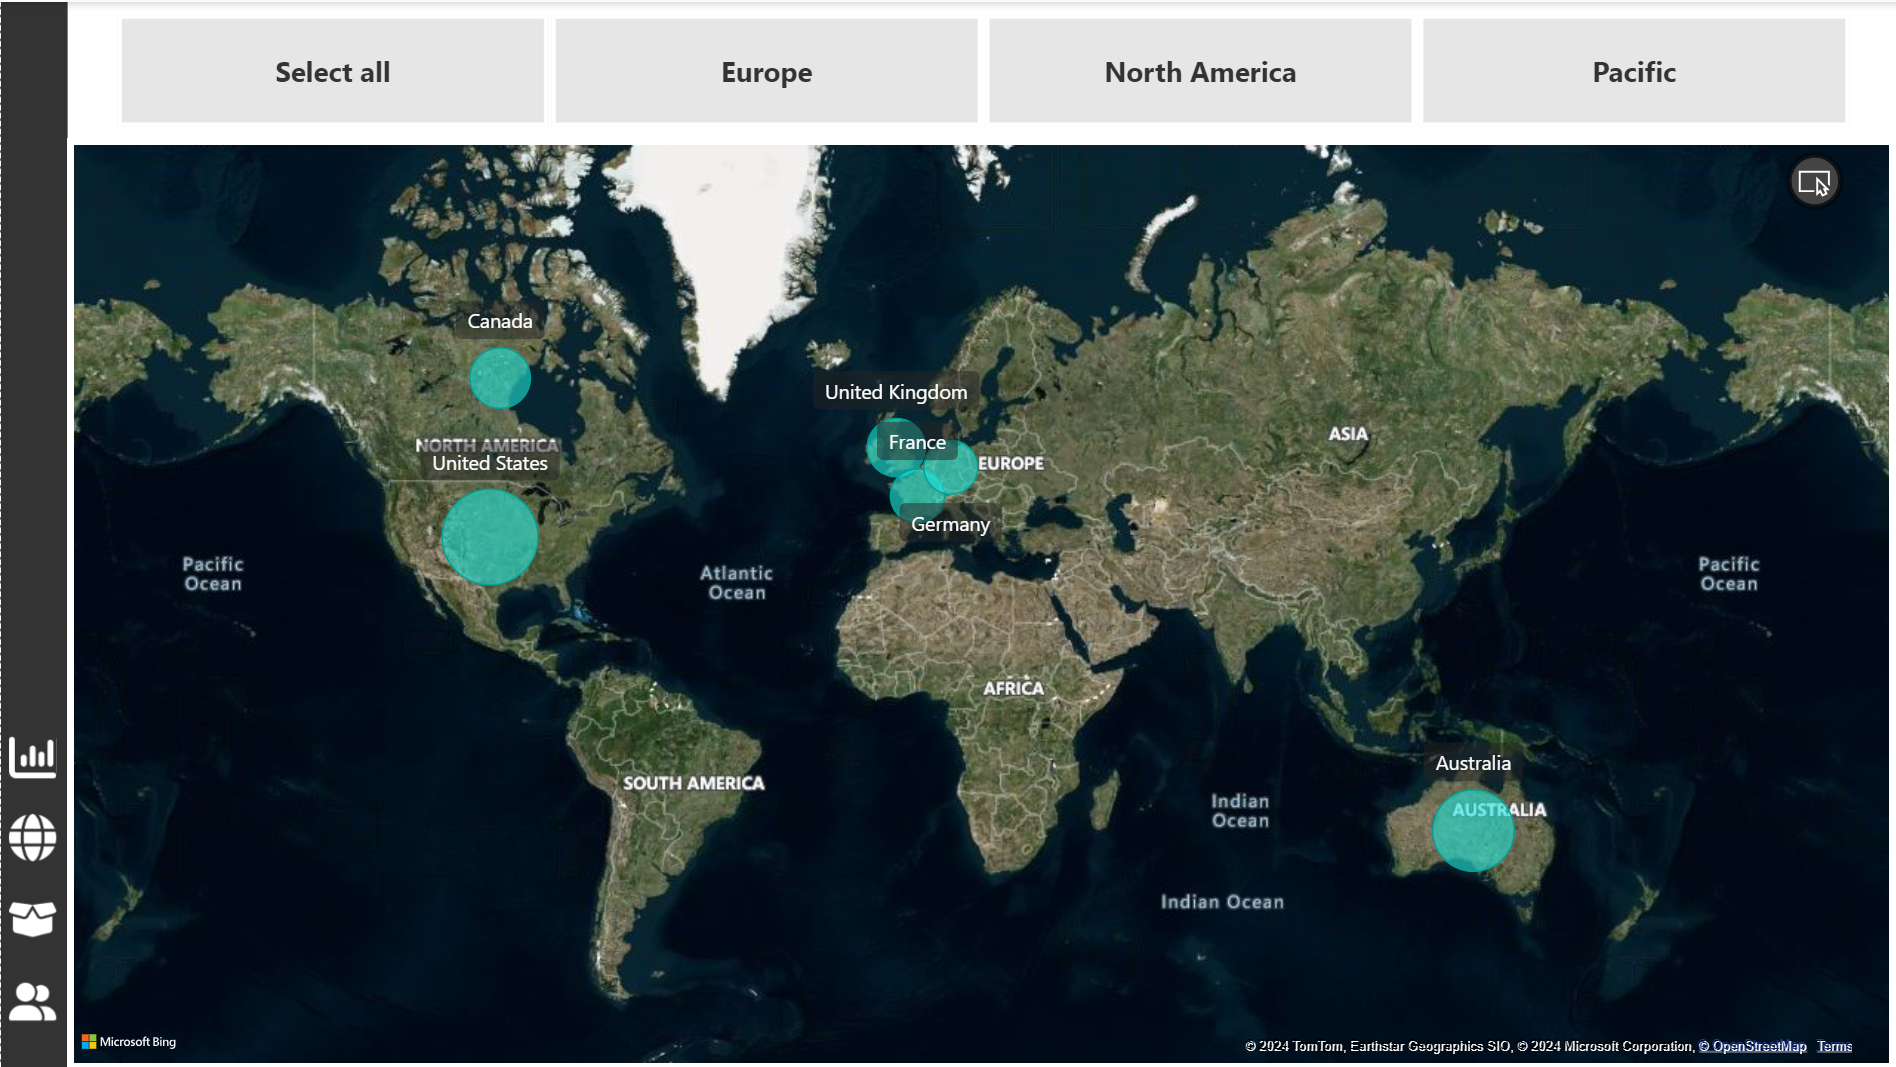

Layout of this report page (visuals, bound fields, positions):
{"tool":"powerbi","page":{"name":"Map","canvas":[1280,720],"ordinal":1},"visuals":[{"type":"shape","box":[0,0,45,720.3],"z":0},{"type":"actionButton","box":[1.4,600,45.7,40],"z":0,"group":"g1"},{"type":"map","fields":{"Category":["Territory Lookup.Country"],"Size":["Measure Table.Total Orders"]},"box":[44.3,91.4,1235.7,630],"z":1000},{"type":"actionButton","box":[1.4,654.3,45.7,40],"z":1000,"group":"g1"},{"type":"slicer","fields":{"Values":["Territory Lookup.Continent"]},"box":[52.9,1.4,1220,90],"z":2000},{"type":"actionButton","box":[1.4,544.3,45.7,40],"z":2000,"group":"g1"},{"type":"group","id":"g1","title":"Navigation buttons","box":[1.4,490,45.7,204.3],"z":3000},{"type":"actionButton","box":[1.4,490,45.7,40],"z":3000,"group":"g1"}]}

Visuals, with their boxes in screenshot pixels (x1, y1, x2, y2):
shape: 0 5 66 1057
actionButton: 2 881 69 940
map - Territory Lookup.Country x Measure Table.Total Orders: 65 138 1870 1059
actionButton: 2 961 69 1019
slicer - Territory Lookup.Continent: 77 7 1859 138
actionButton: 2 800 69 858
"Navigation buttons" group: 2 721 69 1019
actionButton: 2 721 69 779
